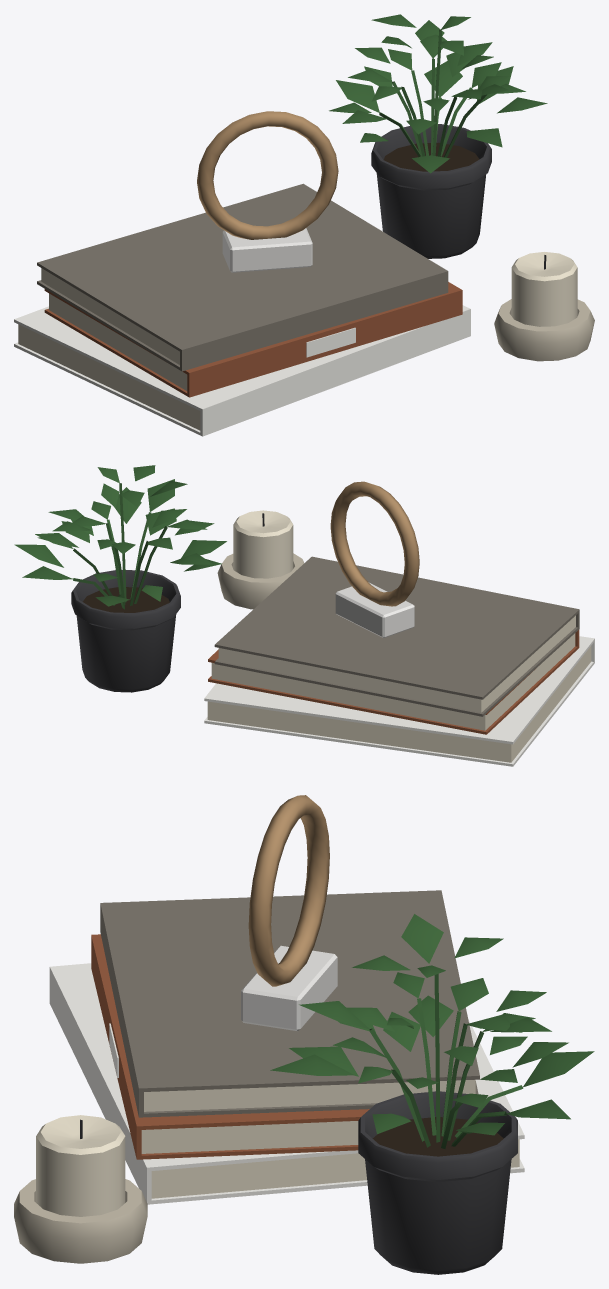
The model's file is decor_b_vignette_coffee.gltf.
The picture shows the model from 3 angles, top to bottom: view 1: azimuth 30°, elevation 25°; view 2: azimuth 150°, elevation 25°; view 3: azimuth 270°, elevation 25°; orthographic projection. The views are drawn at different scales.
Parts seen in each view (by area): view 1: DecorBVignetteCoffee_Book03_WoolGreige_NoCollide, DecorBVignetteCoffee_Book01_PaperWhite_NoCollide, DecorBVignetteCoffee_Leaf_NoCollide, DecorBVignetteCoffee_CeramicCharcoal_NoCollide, DecorBVignetteCoffee_Book02_ClothRust_NoCollide, DecorBVignetteCoffee_Ornament01_Bronze_NoCollide, DecorBVignetteCoffee_Candle01_Candle_NoCollide, DecorBVignetteCoffee_Candle01_CeramicOat_NoCollide, DecorBVignetteCoffee_Book01_Candle_NoCollide, DecorBVignetteCoffee_Ornament01_Marble_NoCollide, DecorBVignetteCoffee_Book02_Candle_NoCollide, DecorBVignetteCoffee_Book03_Candle_NoCollide (+2 smaller); view 2: DecorBVignetteCoffee_Book03_WoolGreige_NoCollide, DecorBVignetteCoffee_CeramicCharcoal_NoCollide, DecorBVignetteCoffee_Leaf_NoCollide, DecorBVignetteCoffee_Book01_PaperWhite_NoCollide, DecorBVignetteCoffee_Book01_Candle_NoCollide, DecorBVignetteCoffee_Book02_Candle_NoCollide, DecorBVignetteCoffee_Book03_Candle_NoCollide, DecorBVignetteCoffee_Ornament01_Bronze_NoCollide, DecorBVignetteCoffee_Candle01_Candle_NoCollide, DecorBVignetteCoffee_Ornament01_Marble_NoCollide, DecorBVignetteCoffee_Book02_ClothRust_NoCollide, DecorBVignetteCoffee_Candle01_CeramicOat_NoCollide (+1 smaller); view 3: DecorBVignetteCoffee_Book03_WoolGreige_NoCollide, DecorBVignetteCoffee_Leaf_NoCollide, DecorBVignetteCoffee_CeramicCharcoal_NoCollide, DecorBVignetteCoffee_Book01_PaperWhite_NoCollide, DecorBVignetteCoffee_Ornament01_Bronze_NoCollide, DecorBVignetteCoffee_Candle01_Candle_NoCollide, DecorBVignetteCoffee_Book02_ClothRust_NoCollide, DecorBVignetteCoffee_Candle01_CeramicOat_NoCollide, DecorBVignetteCoffee_Book01_Candle_NoCollide, DecorBVignetteCoffee_Book03_Candle_NoCollide, DecorBVignetteCoffee_Book02_Candle_NoCollide, DecorBVignetteCoffee_Ornament01_Marble_NoCollide (+1 smaller).
Boxes of the visible parts, left/top/right/bottom form: DecorBVignetteCoffee_Book03_WoolGreige_NoCollide: left=37, top=183, right=448, bottom=371; DecorBVignetteCoffee_Book01_PaperWhite_NoCollide: left=14, top=305, right=470, bottom=436; DecorBVignetteCoffee_Leaf_NoCollide: left=329, top=14, right=547, bottom=173; DecorBVignetteCoffee_CeramicCharcoal_NoCollide: left=371, top=124, right=491, bottom=258; DecorBVignetteCoffee_Book02_ClothRust_NoCollide: left=44, top=282, right=462, bottom=397; DecorBVignetteCoffee_Ornament01_Bronze_NoCollide: left=197, top=111, right=338, bottom=239; DecorBVignetteCoffee_Candle01_Candle_NoCollide: left=511, top=252, right=577, bottom=326; DecorBVignetteCoffee_Candle01_CeramicOat_NoCollide: left=494, top=299, right=594, bottom=361; DecorBVignetteCoffee_Book01_Candle_NoCollide: left=18, top=324, right=200, bottom=430; DecorBVignetteCoffee_Ornament01_Marble_NoCollide: left=222, top=228, right=312, bottom=272; DecorBVignetteCoffee_Book02_Candle_NoCollide: left=49, top=293, right=187, bottom=390; DecorBVignetteCoffee_Book03_Candle_NoCollide: left=41, top=268, right=179, bottom=364; DecorBVignetteCoffee_Book03_WoolGreige_NoCollide: left=214, top=556, right=579, bottom=716; DecorBVignetteCoffee_CeramicCharcoal_NoCollide: left=71, top=570, right=180, bottom=692; DecorBVignetteCoffee_Leaf_NoCollide: left=14, top=465, right=226, bottom=609; DecorBVignetteCoffee_Book01_PaperWhite_NoCollide: left=204, top=636, right=594, bottom=766; DecorBVignetteCoffee_Book01_Candle_NoCollide: left=207, top=646, right=591, bottom=762; DecorBVignetteCoffee_Book02_Candle_NoCollide: left=211, top=633, right=575, bottom=730; DecorBVignetteCoffee_Book03_Candle_NoCollide: left=218, top=615, right=575, bottom=712; DecorBVignetteCoffee_Ornament01_Bronze_NoCollide: left=330, top=481, right=419, bottom=606; DecorBVignetteCoffee_Candle01_Candle_NoCollide: left=233, top=510, right=293, bottom=578; DecorBVignetteCoffee_Ornament01_Marble_NoCollide: left=335, top=582, right=414, bottom=637; DecorBVignetteCoffee_Book02_ClothRust_NoCollide: left=208, top=629, right=579, bottom=734; DecorBVignetteCoffee_Candle01_CeramicOat_NoCollide: left=217, top=553, right=304, bottom=609; DecorBVignetteCoffee_Book03_WoolGreige_NoCollide: left=100, top=890, right=479, bottom=1117; DecorBVignetteCoffee_Leaf_NoCollide: left=270, top=914, right=594, bottom=1148; DecorBVignetteCoffee_CeramicCharcoal_NoCollide: left=358, top=1091, right=517, bottom=1274; DecorBVignetteCoffee_Book01_PaperWhite_NoCollide: left=49, top=963, right=524, bottom=1204; DecorBVignetteCoffee_Ornament01_Bronze_NoCollide: left=248, top=795, right=329, bottom=986; DecorBVignetteCoffee_Candle01_Candle_NoCollide: left=36, top=1115, right=125, bottom=1216; DecorBVignetteCoffee_Book02_ClothRust_NoCollide: left=91, top=934, right=369, bottom=1159; DecorBVignetteCoffee_Candle01_CeramicOat_NoCollide: left=14, top=1179, right=147, bottom=1263; DecorBVignetteCoffee_Book01_Candle_NoCollide: left=151, top=1139, right=519, bottom=1198; DecorBVignetteCoffee_Book03_Candle_NoCollide: left=144, top=1079, right=475, bottom=1111; DecorBVignetteCoffee_Book02_Candle_NoCollide: left=141, top=1121, right=358, bottom=1153; DecorBVignetteCoffee_Ornament01_Marble_NoCollide: left=241, top=945, right=337, bottom=1031.
Bounding box in the file's own units: 0.5509 × 0.2241 × 0.3901.
